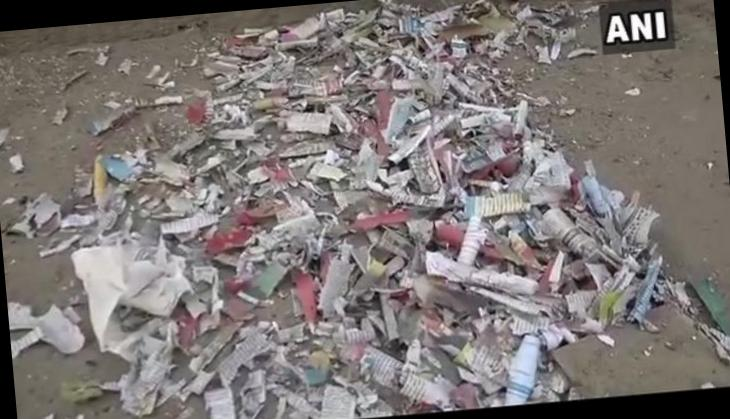trash: (204, 7, 660, 419)
